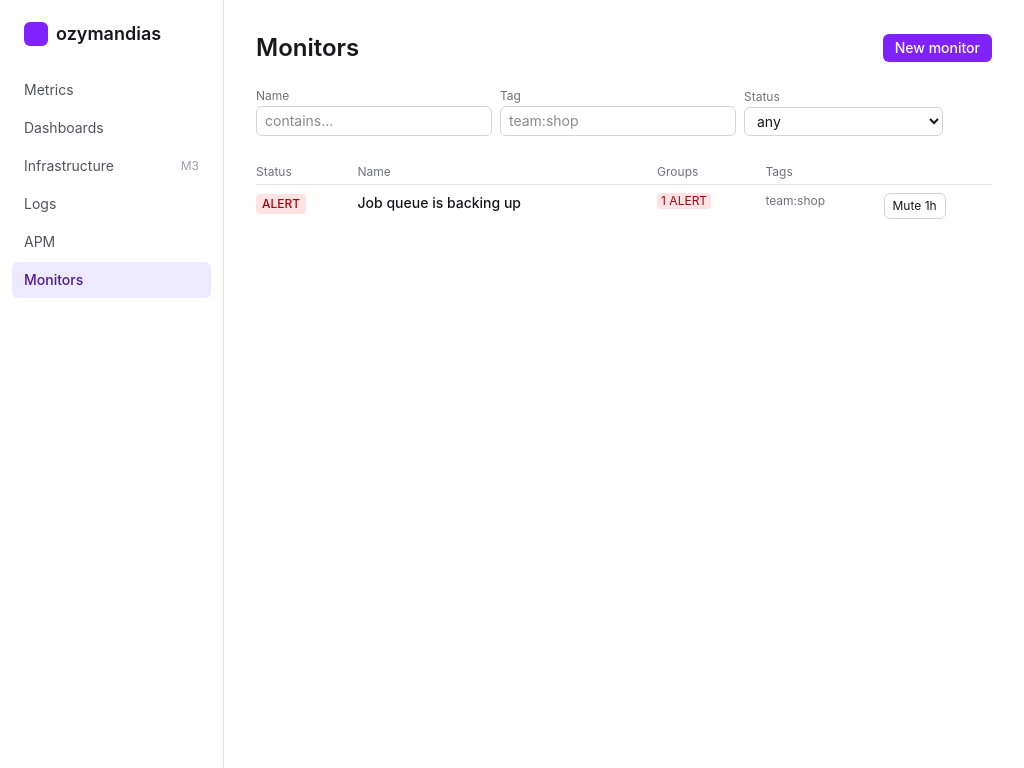
MonitorsIndex › shows the server's sentence when a mute fails
What coordinates should you click on to do the following:
click the button "Mute 1h"
I would click on:
 (915, 206)
Its box is [884,193,946,219].
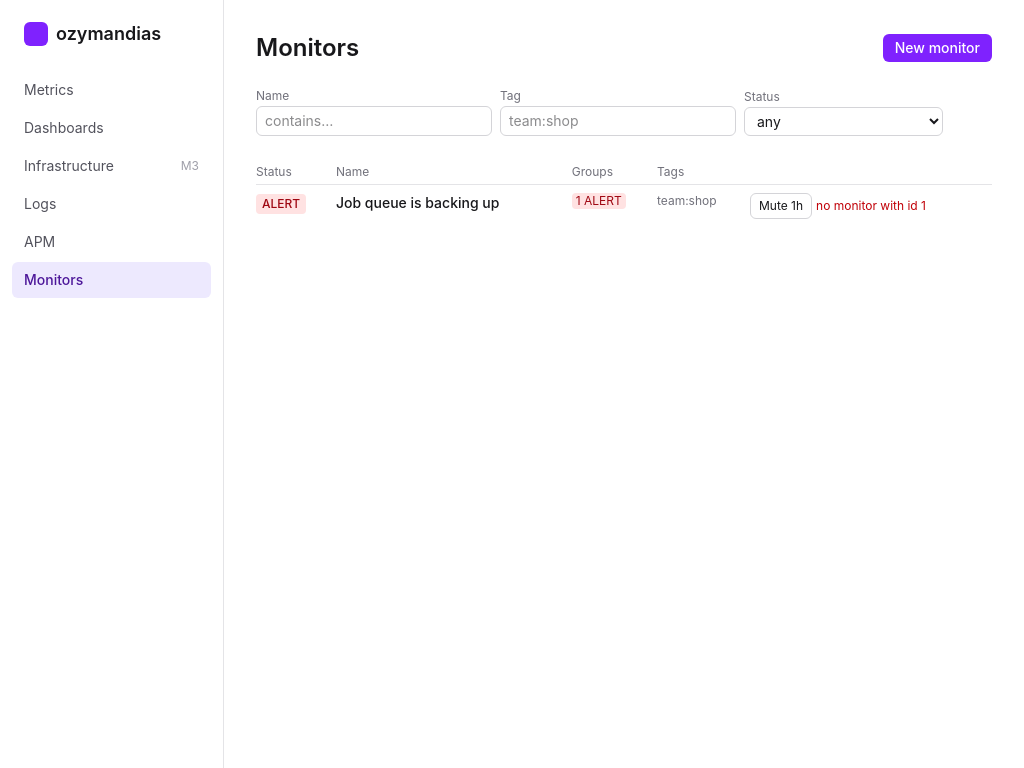
Check: the message reads "no monitor with id 1", box [816,198,926,213]
